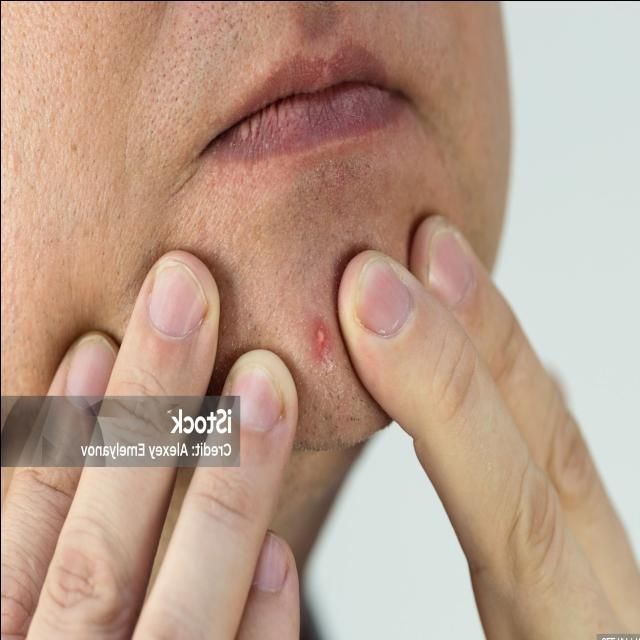pustule: (303, 304, 336, 361)
